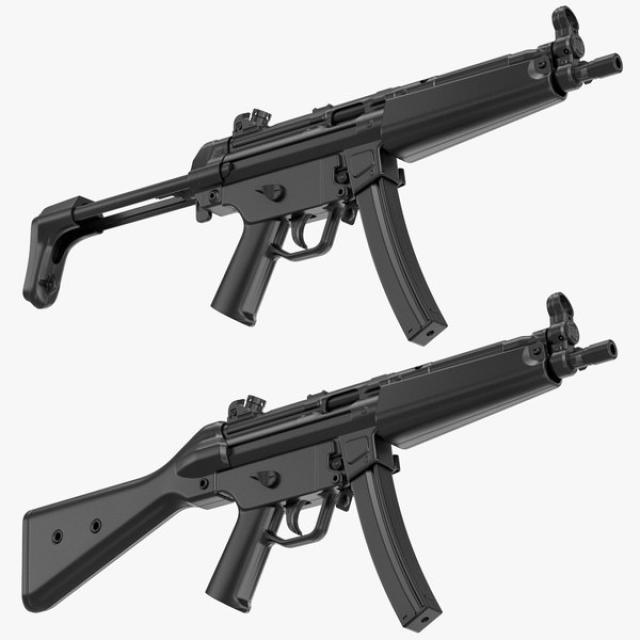SMG: (20, 293, 620, 635), (22, 6, 625, 346)
